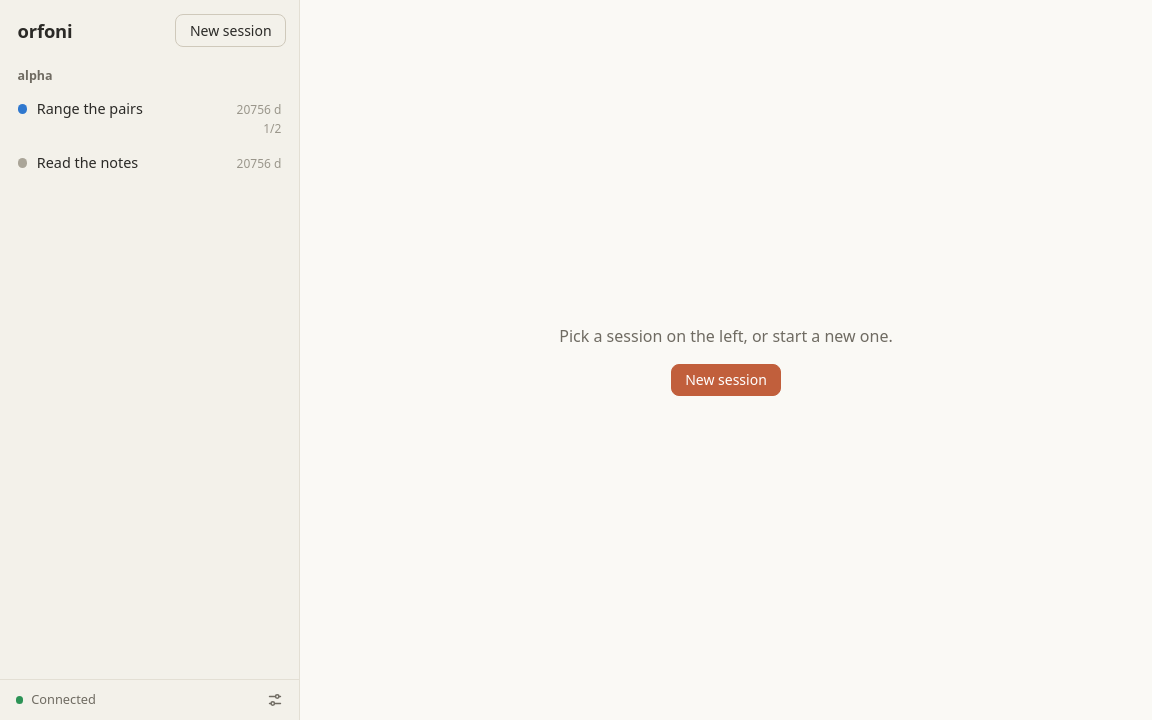
Test: a working session shows the line Claude Code shows in the conversation and its task list in the sidebar beside it, and a session without one shows no sidebar
The image size is (1152, 720).
Click the button "Range the pairs 20756 d 1/2": click(90, 109) [8, 91, 291, 145]
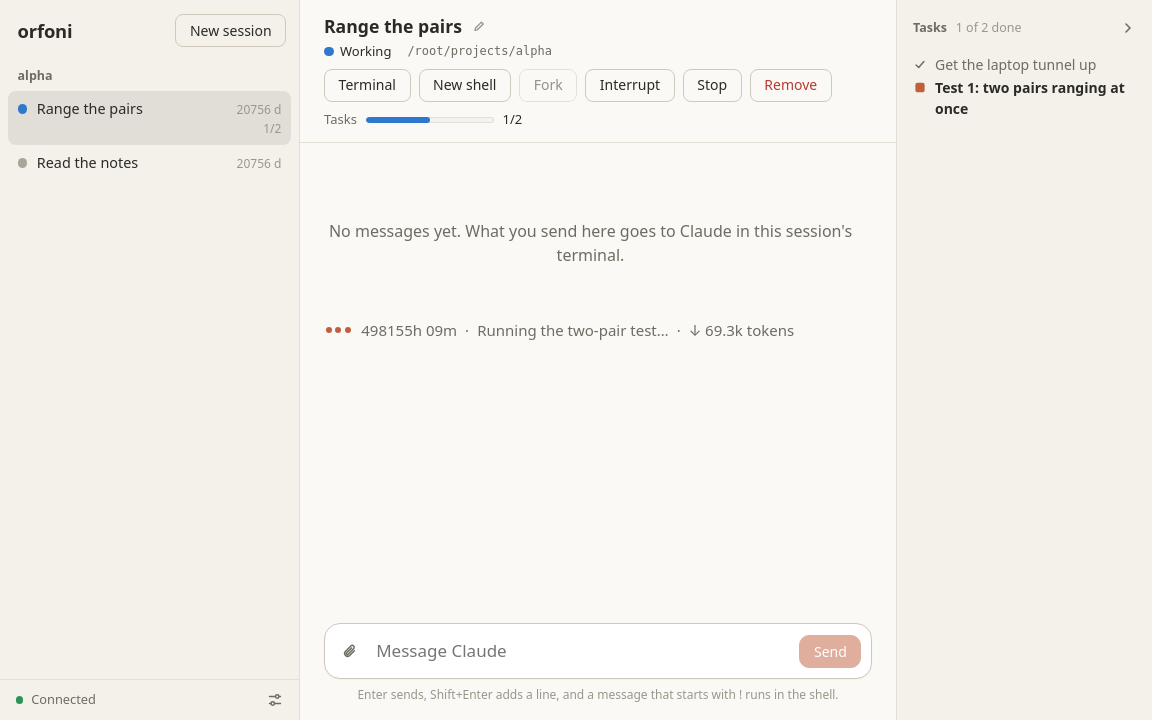
Expected: the message "Running the two-pair test…" is shown, [477, 318, 669, 341]
Click the button "Read the notes 20756 d": click(88, 163) [8, 145, 291, 181]
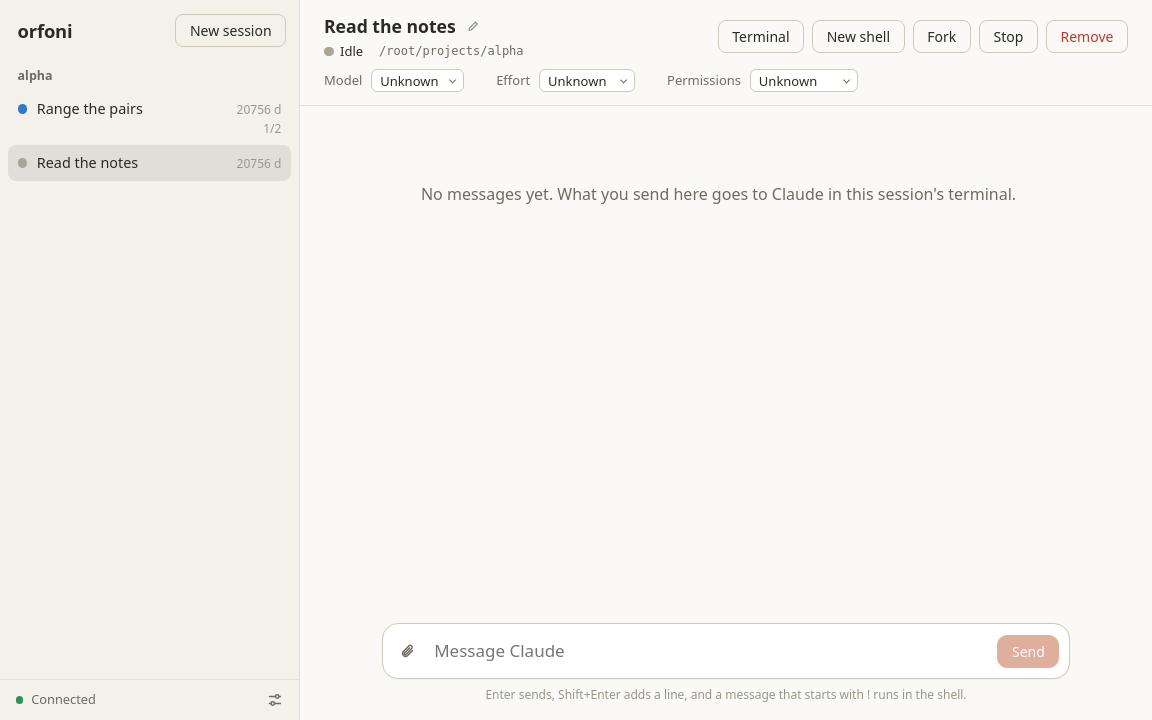
Expected: the text box labelled "Task list" is gone
